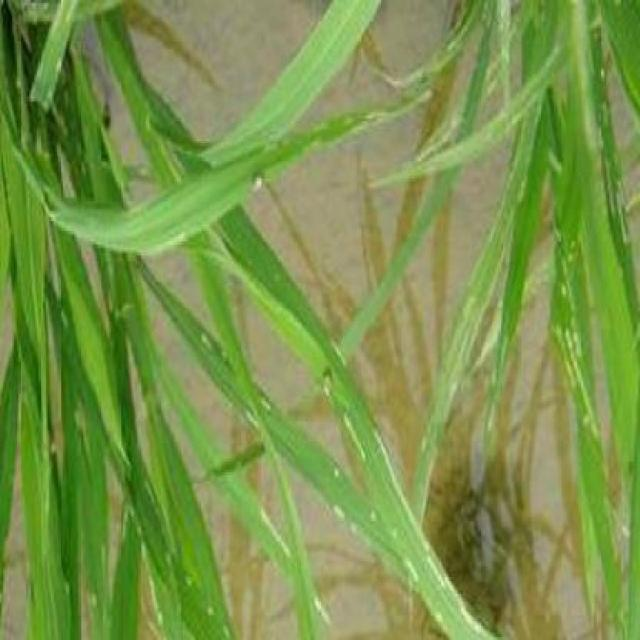rice-bug: (318, 365, 340, 401), (248, 166, 266, 199)
